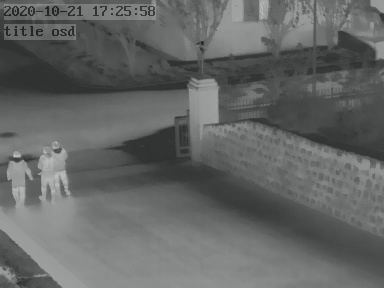person: (6, 150, 31, 209), (49, 140, 73, 198), (37, 145, 55, 202)
